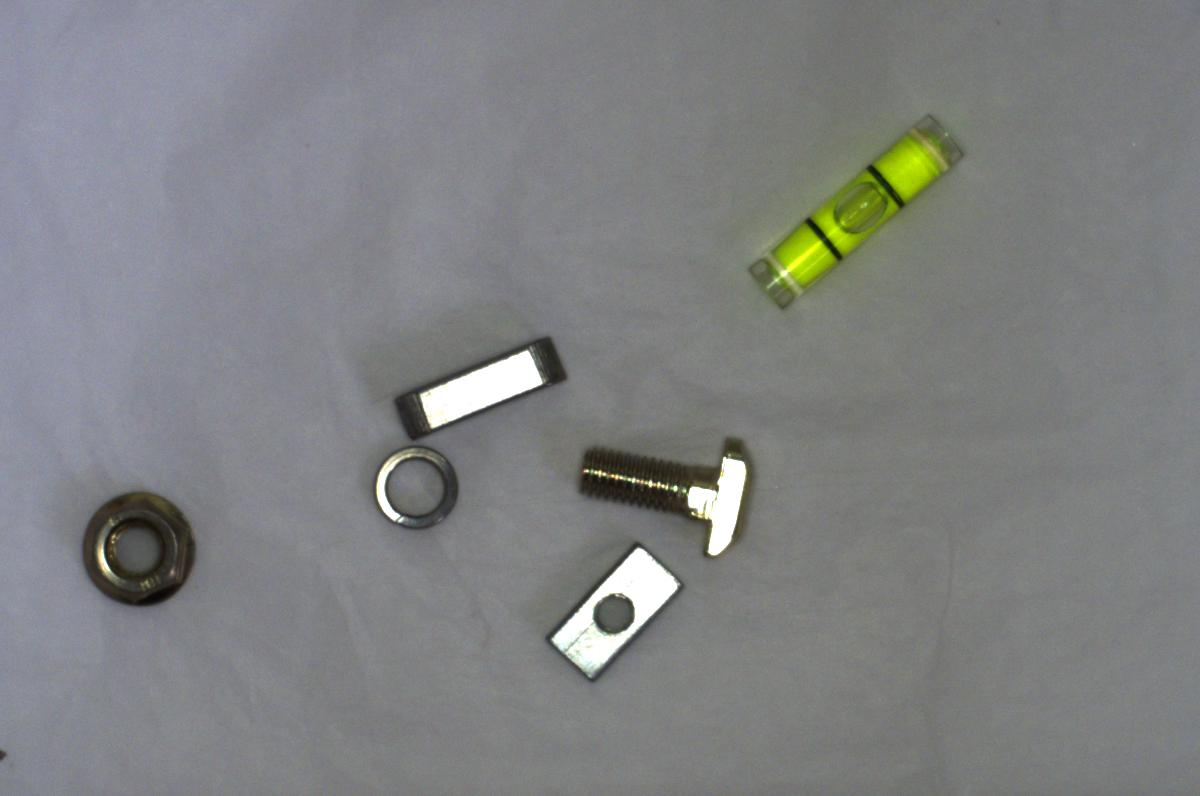Flange nut: (72, 480, 205, 609)
Horizontal bubble: (742, 106, 980, 314)
Keybar: (385, 313, 572, 435)
Rectangular nut: (532, 534, 686, 681)
Spring washer: (359, 438, 466, 535)
T-shaped screw: (573, 423, 758, 563)
